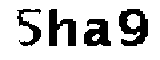5: (10, 6, 43, 49)
9: (116, 6, 152, 52)
a: (80, 17, 113, 50)
h: (45, 6, 79, 50)
